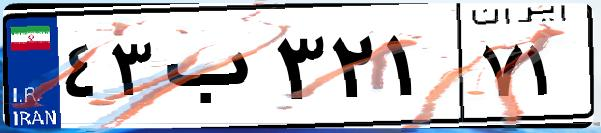1: (385, 28, 445, 110), (525, 38, 570, 115)
2: (330, 28, 385, 110)
3: (270, 28, 330, 110), (110, 28, 158, 98)
4: (57, 26, 110, 100)
7: (475, 38, 525, 113)
ب: (158, 20, 270, 120)
